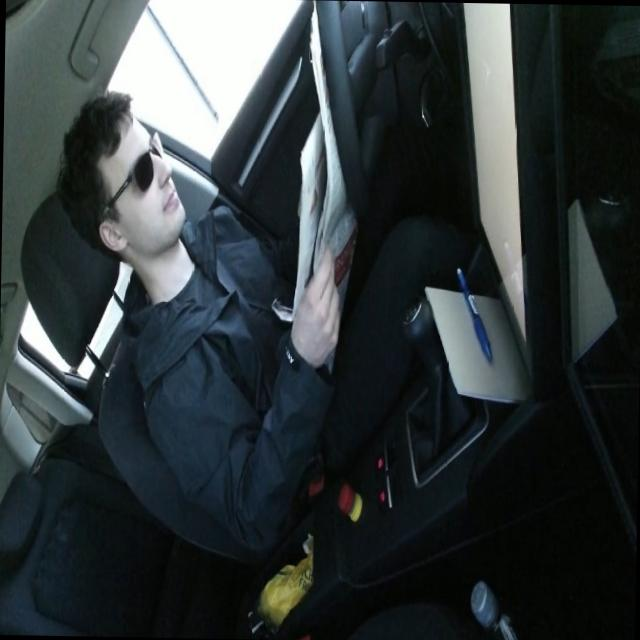pen: (454, 263, 494, 362)
